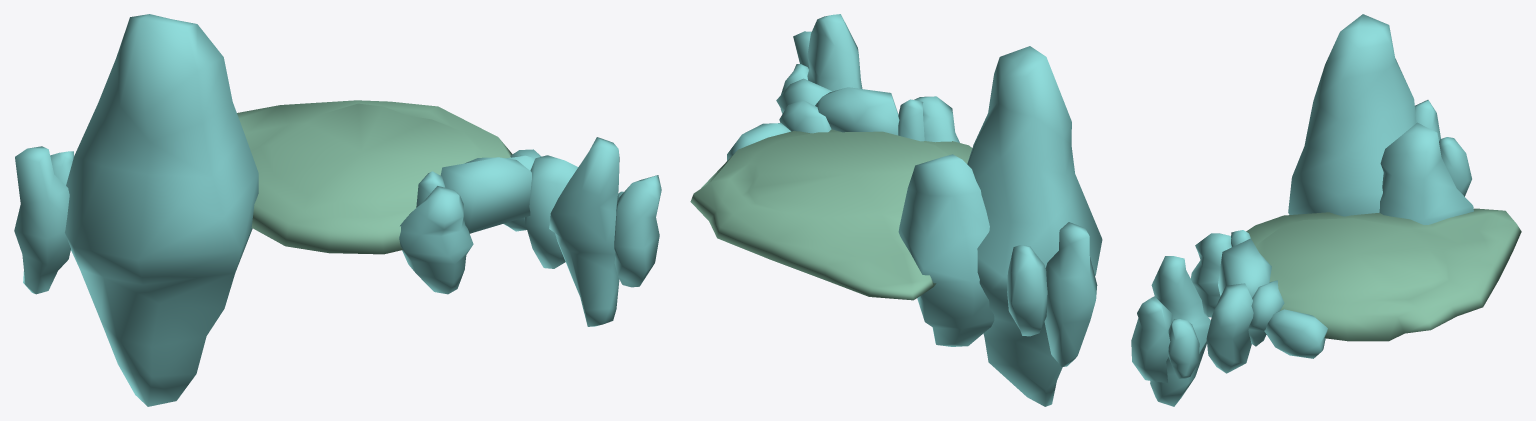
File: Rock_Green_01.FBX
3 renders of one model, left to right at view 1: azimuth 30°, elevation 25°; view 2: azimuth 150°, elevation 25°; view 3: azimuth 270°, elevation 25°, orthographic. The views are drawn at different scales.
Parts seen in each view (by area): view 1: Rock_Green_01_LOD0; view 2: Rock_Green_01_LOD0; view 3: Rock_Green_01_LOD0.
Boxes of the visible parts, bbox=[...] form: Rock_Green_01_LOD0: bbox=[14, 14, 661, 406]; Rock_Green_01_LOD0: bbox=[690, 14, 1102, 406]; Rock_Green_01_LOD0: bbox=[1131, 14, 1521, 406].
Bounding box in the file's own units: 3153 × 2638 × 2370.
